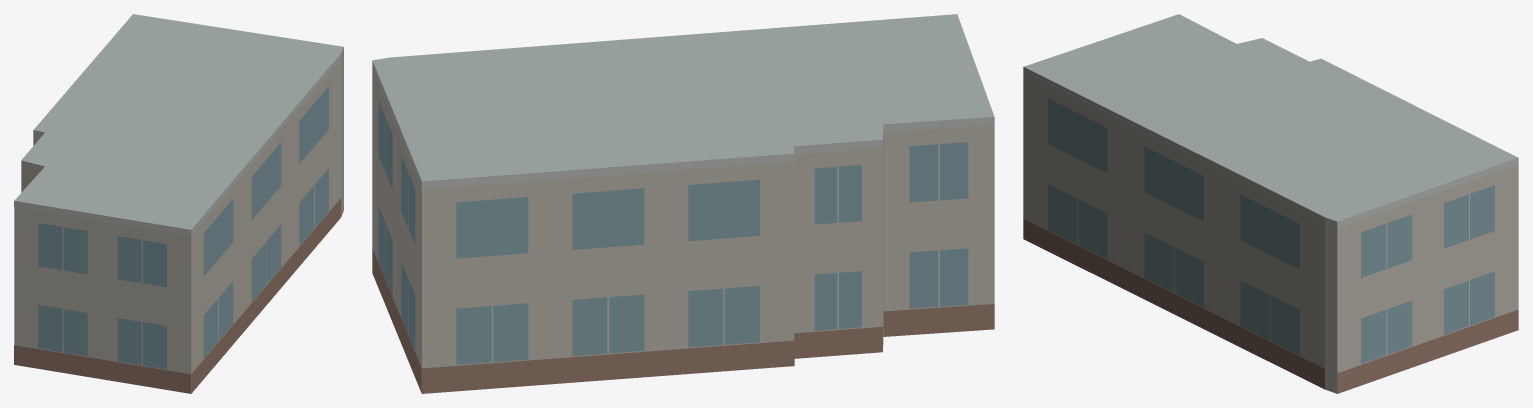
File: survey-upis-32943272.glb
The picture shows the model from 3 angles, left to right: view 1: azimuth 30°, elevation 25°; view 2: azimuth 150°, elevation 25°; view 3: azimuth 270°, elevation 25°; orthographic projection. The views are drawn at different scales.
Parts seen in each view (by area): view 1: survey-upis-32943272.tmp; view 2: survey-upis-32943272.tmp; view 3: survey-upis-32943272.tmp.
Part boxes in pixels (x1,y1,x2,y2): survey-upis-32943272.tmp: [14, 14, 343, 393]; survey-upis-32943272.tmp: [372, 14, 994, 393]; survey-upis-32943272.tmp: [1023, 14, 1518, 393].
Bounding box in the file's own units: 16.81 × 6.5 × 16.94.
